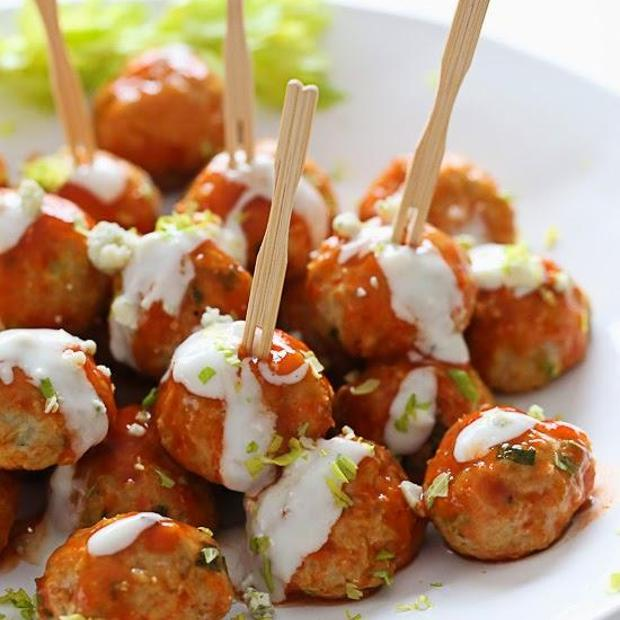meatballs: (1, 158, 570, 615)
